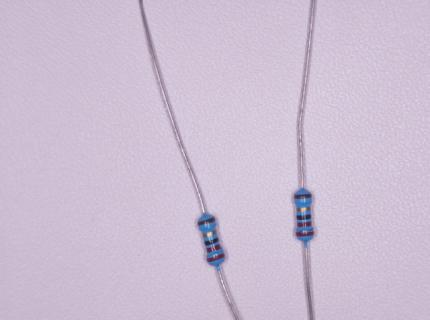Black band: (204, 237, 220, 246), (297, 214, 311, 219)
Brown band: (197, 216, 217, 227), (294, 193, 312, 199)
Gold band: (202, 229, 217, 238), (296, 207, 311, 212)
Red band: (207, 253, 225, 263), (206, 244, 222, 253), (295, 231, 314, 237), (297, 221, 312, 228)
